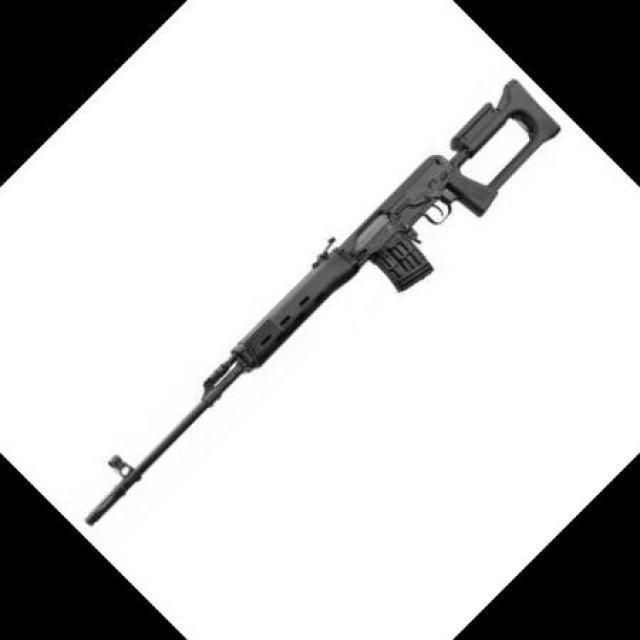weapon: (84, 77, 562, 527)
